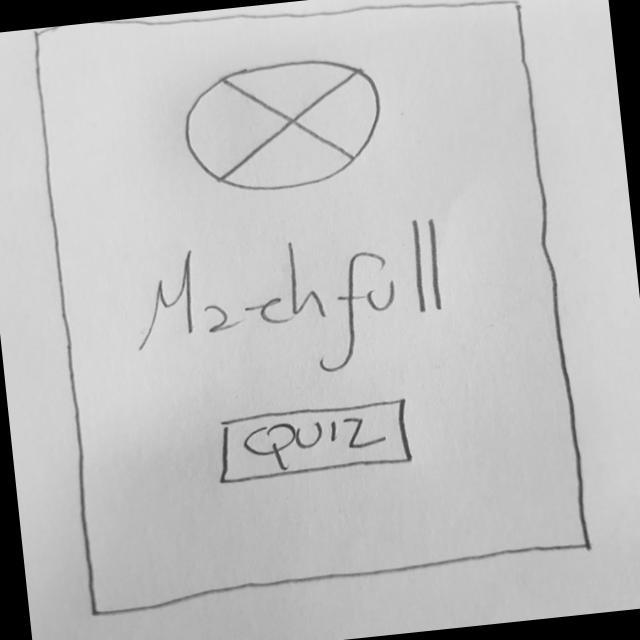button: (211, 397, 424, 489)
container: (20, 1, 598, 624)
image: (174, 48, 397, 206)
label: (120, 213, 475, 394)
